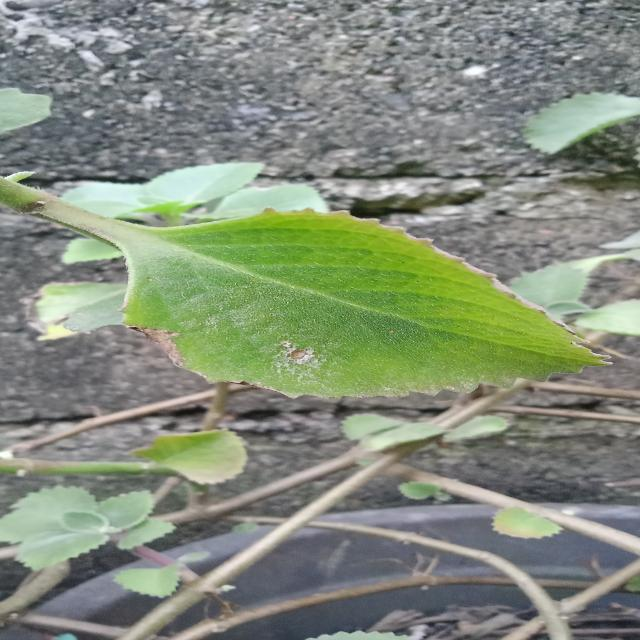Oregano: (70, 189, 633, 442)
